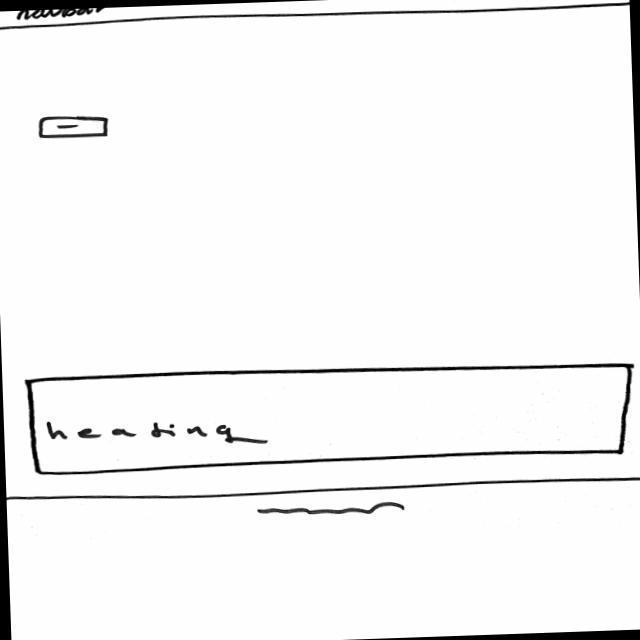container: (23, 355, 634, 478), (1, 1, 630, 33)
icon-button: (37, 115, 113, 142)
label: (45, 414, 271, 455), (12, 8, 114, 21)
text: (254, 501, 406, 522)
